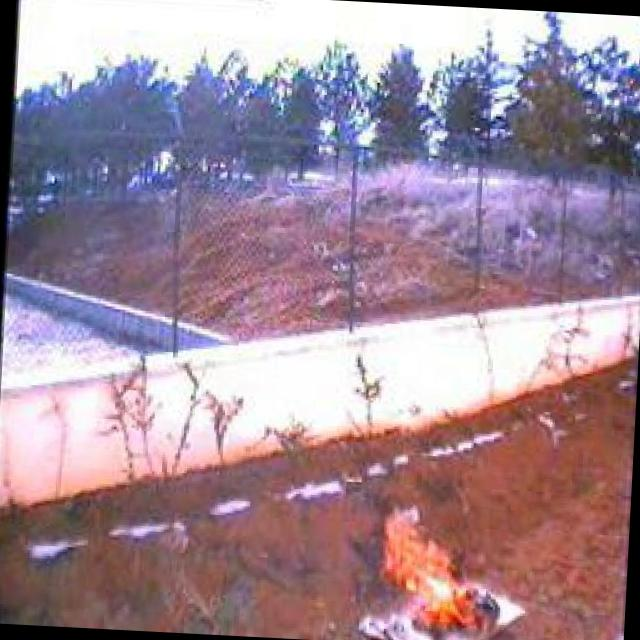Fire: (377, 498, 503, 640)
